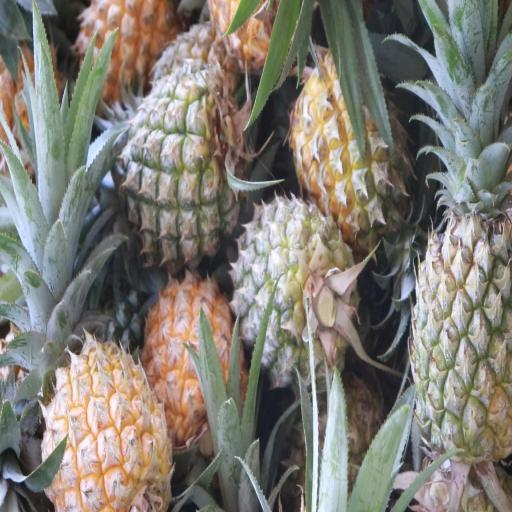------------------------------: (287, 61, 409, 249), (124, 78, 249, 254), (234, 197, 356, 376)
Pineapple - v8 v1: (45, 344, 172, 511), (146, 273, 243, 436), (78, 0, 173, 101)
